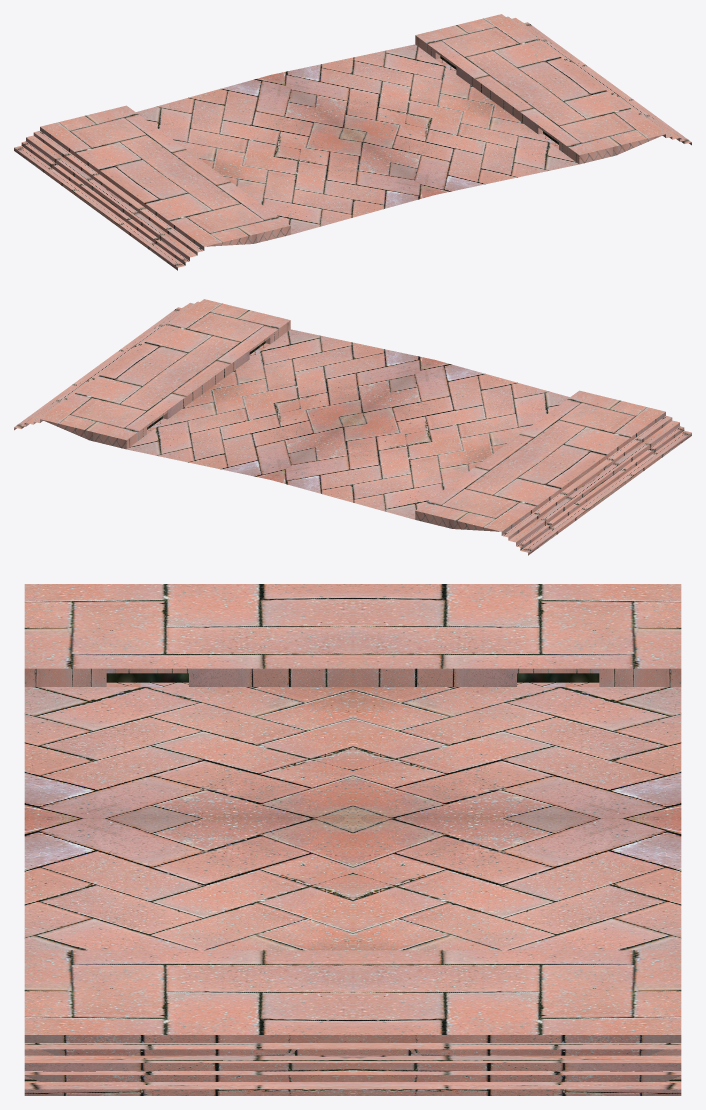
Rendered from road.obj.
The picture shows the model from 3 angles, top to bottom: view 1: azimuth 30°, elevation 25°; view 2: azimuth 150°, elevation 25°; view 3: azimuth 270°, elevation 25°; orthographic projection. The views are drawn at different scales.
Visible parts, largest first — view 1: Plane_Plane.001; view 2: Plane_Plane.001; view 3: Plane_Plane.001.
Part boxes in pixels (x1,y1,x2,y2): Plane_Plane.001: (14,14,691,270); Plane_Plane.001: (14,299,691,555); Plane_Plane.001: (24,584,681,1095).
Size of the model in its own units: 21.82 by 0.7214 by 12.07.
1 material, 1 textured.
